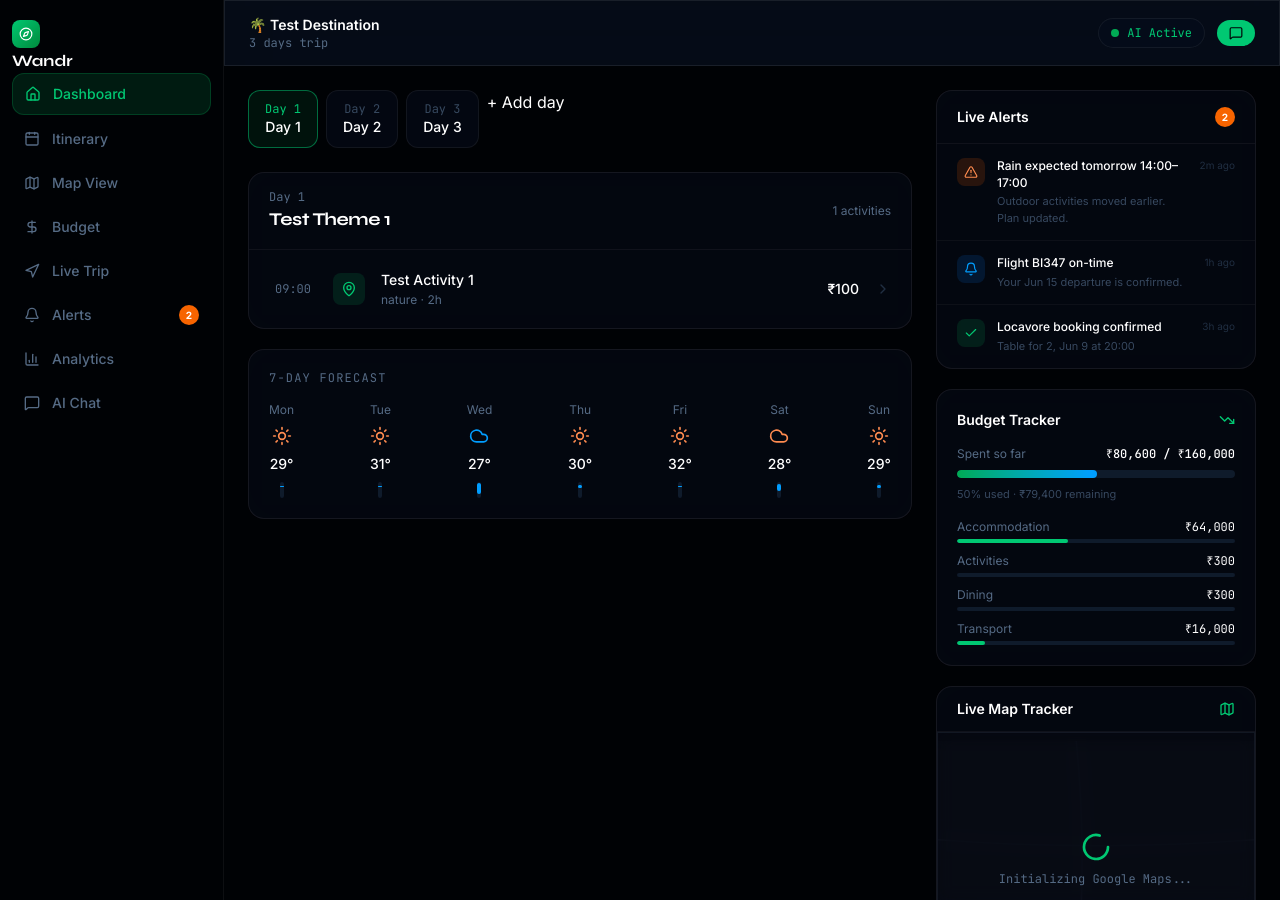
Test case: Dashboard › handles chat API failures gracefully
Click the button named "Ask Wandr AI concierge": (1236, 33) [1217, 20, 1255, 46]
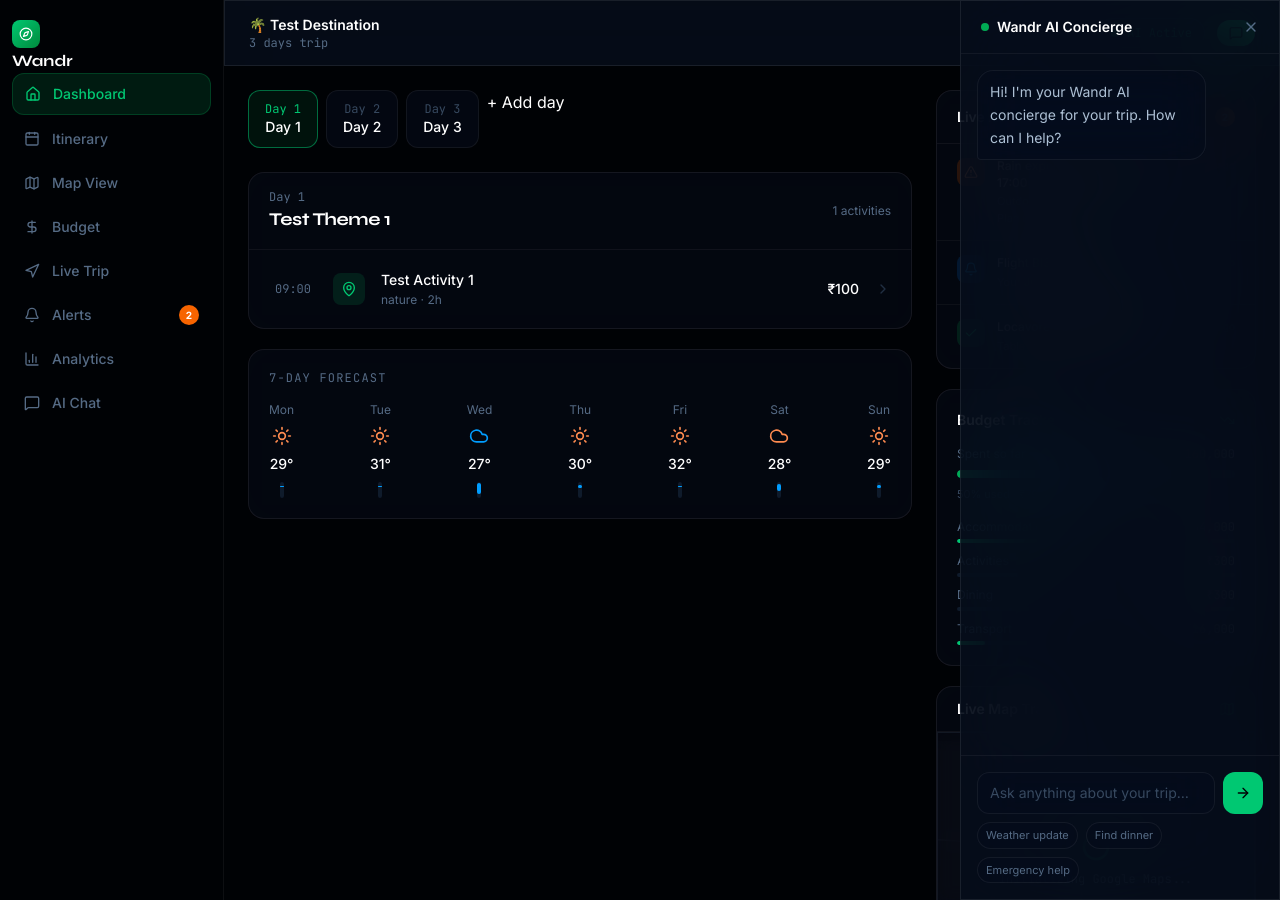
In the field with placeholder "Ask anything about your trip…": (1096, 793) [977, 772, 1215, 814], type "Test message"
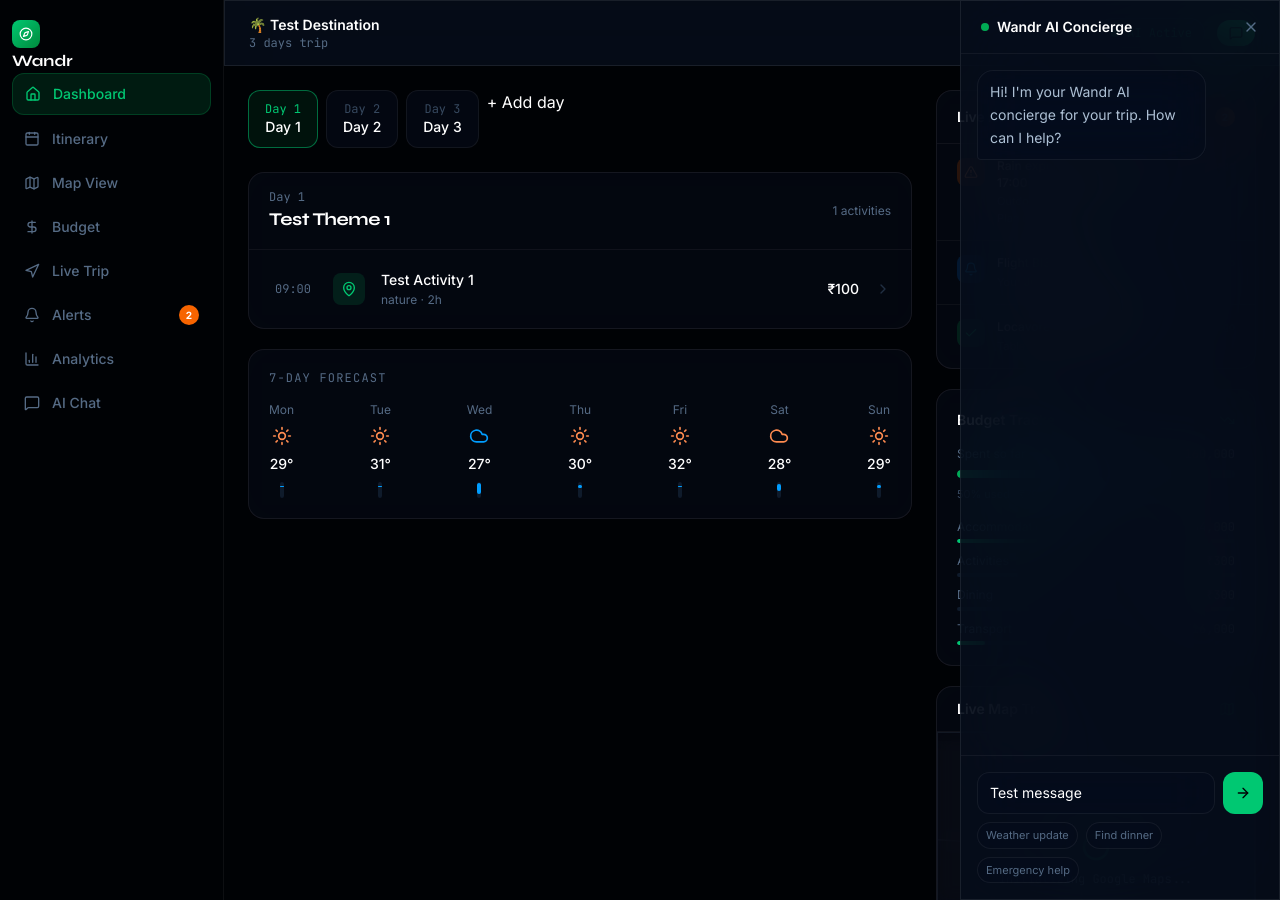
Press Enter in the field with placeholder "Ask anything about your trip…", box [977, 772, 1215, 814]
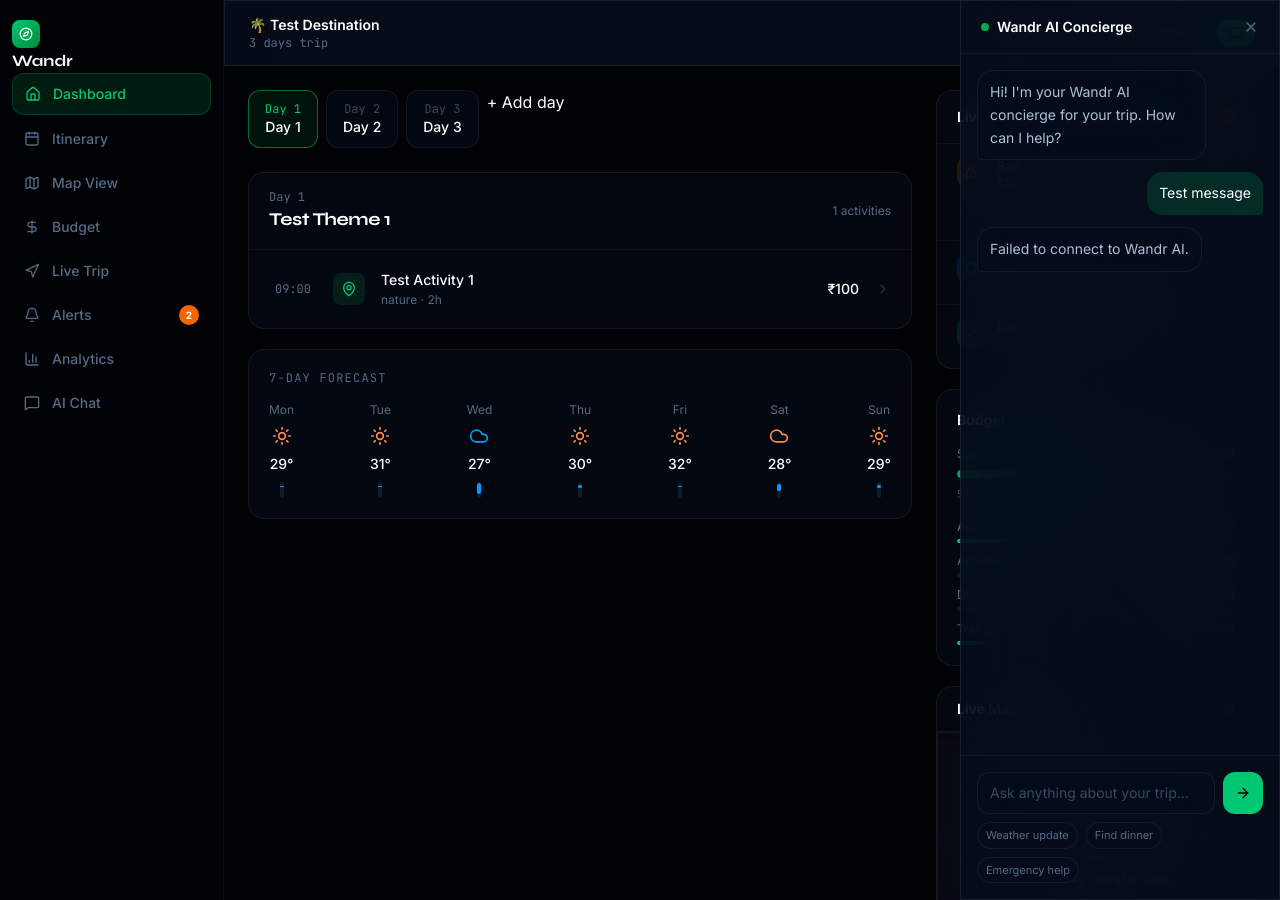
Expected: the text "Failed to connect to Wandr AI." is shown, [977, 227, 1202, 272]
